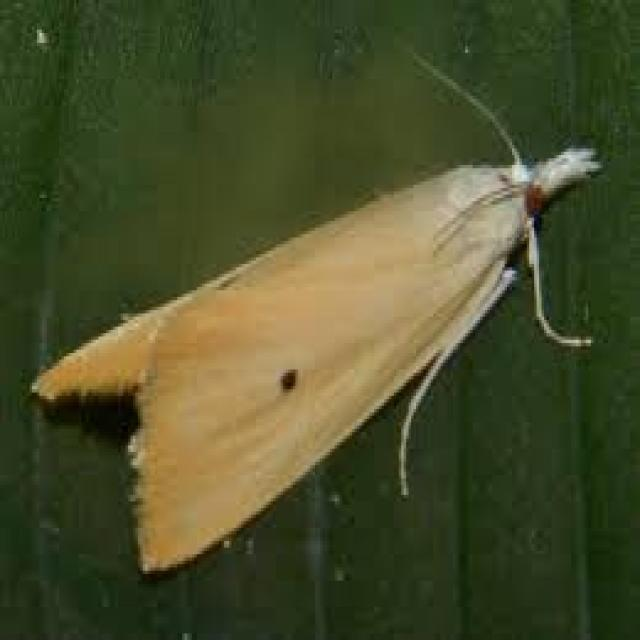yellow-stem-borer: (22, 64, 619, 581)
